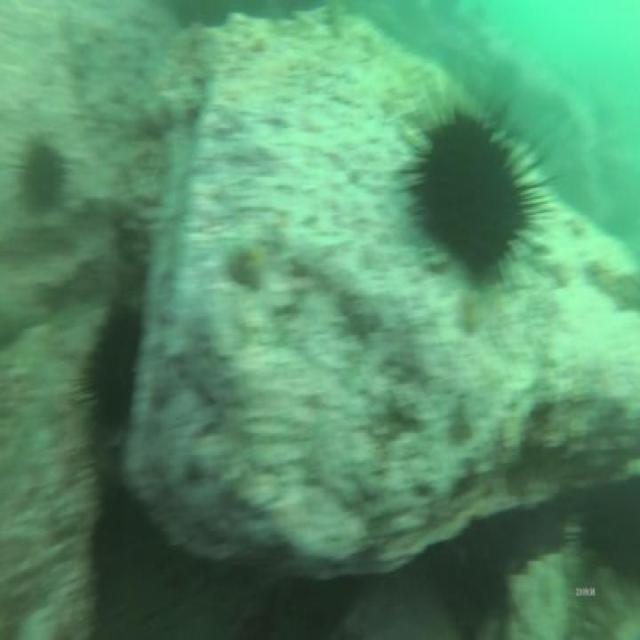echinus: (408, 95, 535, 295), (85, 302, 143, 441), (15, 134, 68, 218)
